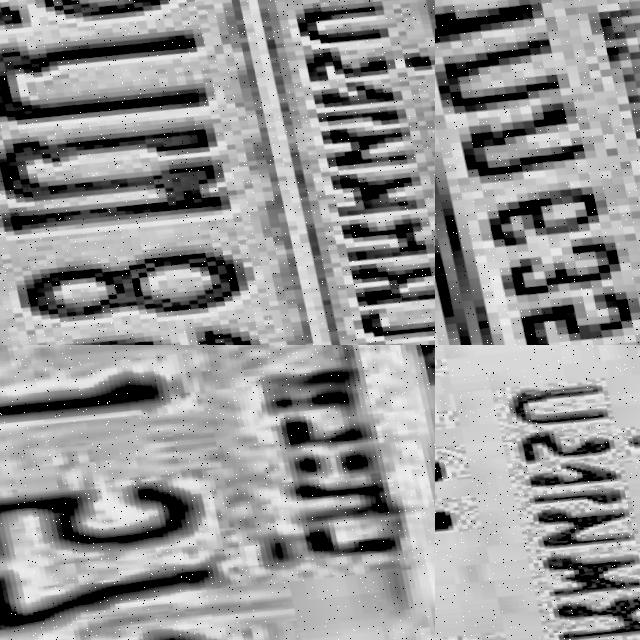license-plate: (0, 0, 435, 345), (0, 345, 435, 640), (435, 0, 640, 345), (435, 345, 640, 640)
